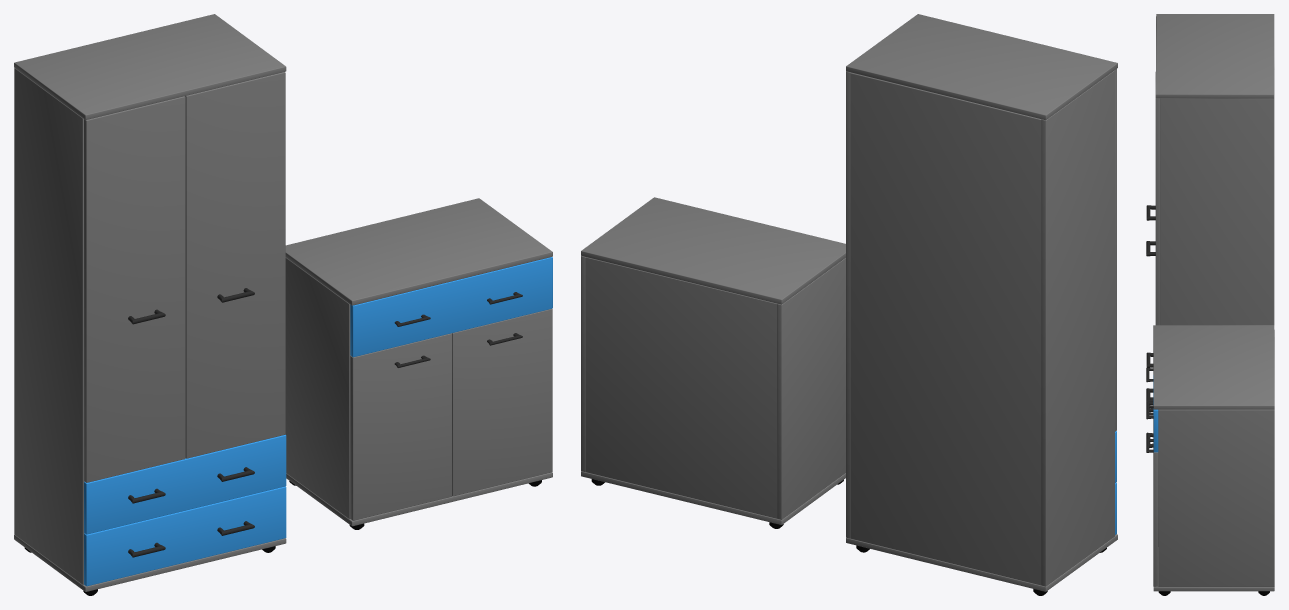
The model's file is Federico 13-7 Marmaridis.FBX.
3 renders of one model, left to right at view 1: azimuth 30°, elevation 25°; view 2: azimuth 150°, elevation 25°; view 3: azimuth 270°, elevation 25°, orthographic. The views are drawn at different scales.
Parts seen in each view (by area): view 1: ChamferBox004, ChamferBox005, ChamferBox001, ChamferBox010, ChamferBox014, ChamferBox017, ChamferBox008, ChamferBox011, ChamferBox015, ChamferBox006, ChamferBox007, ChamferBox003 (+1 smaller); view 2: ChamferBox009, ChamferBox018, ChamferBox001, ChamferBox017, ChamferBox008, ChamferBox011, ChamferBox002, ChamferBox003, ChamferBox013, ChamferBox012, ChamferBox004; view 3: ChamferBox002, ChamferBox012, ChamferBox017, ChamferBox008, ChamferBox005, ChamferBox014, ChamferBox013, ChamferBox015, ChamferBox009.
Boxes of the visible parts, x1,y1,x2,y2 form: ChamferBox004: (84, 96, 185, 482); ChamferBox005: (185, 72, 285, 458); ChamferBox001: (14, 68, 84, 584); ChamferBox010: (350, 333, 451, 520); ChamferBox014: (452, 309, 552, 496); ChamferBox017: (285, 198, 552, 305); ChamferBox008: (14, 14, 286, 119); ChamferBox011: (285, 257, 350, 518); ChamferBox015: (350, 257, 552, 357); ChamferBox006: (84, 486, 286, 586); ChamferBox007: (84, 434, 286, 534); ChamferBox003: (14, 534, 286, 591); ChamferBox009: (850, 72, 1041, 585); ChamferBox018: (585, 257, 777, 518); ChamferBox001: (1041, 70, 1114, 586); ChamferBox017: (581, 197, 845, 304); ChamferBox008: (846, 14, 1117, 120); ChamferBox011: (777, 258, 845, 519); ChamferBox002: (846, 71, 850, 538); ChamferBox003: (846, 534, 1117, 591); ChamferBox013: (581, 471, 845, 524); ChamferBox012: (581, 256, 585, 471); ChamferBox004: (1115, 69, 1116, 431); ChamferBox002: (1160, 98, 1273, 325); ChamferBox012: (1158, 409, 1274, 586); ChamferBox017: (1153, 325, 1274, 409); ChamferBox008: (1155, 14, 1274, 98); ChamferBox005: (1155, 98, 1160, 325); ChamferBox014: (1153, 431, 1158, 586); ChamferBox013: (1153, 547, 1274, 591); ChamferBox015: (1153, 375, 1158, 452); ChamferBox009: (1274, 70, 1274, 324).
Bounding box in the file's own units: 74.83 × 74.83 × 21.7.
